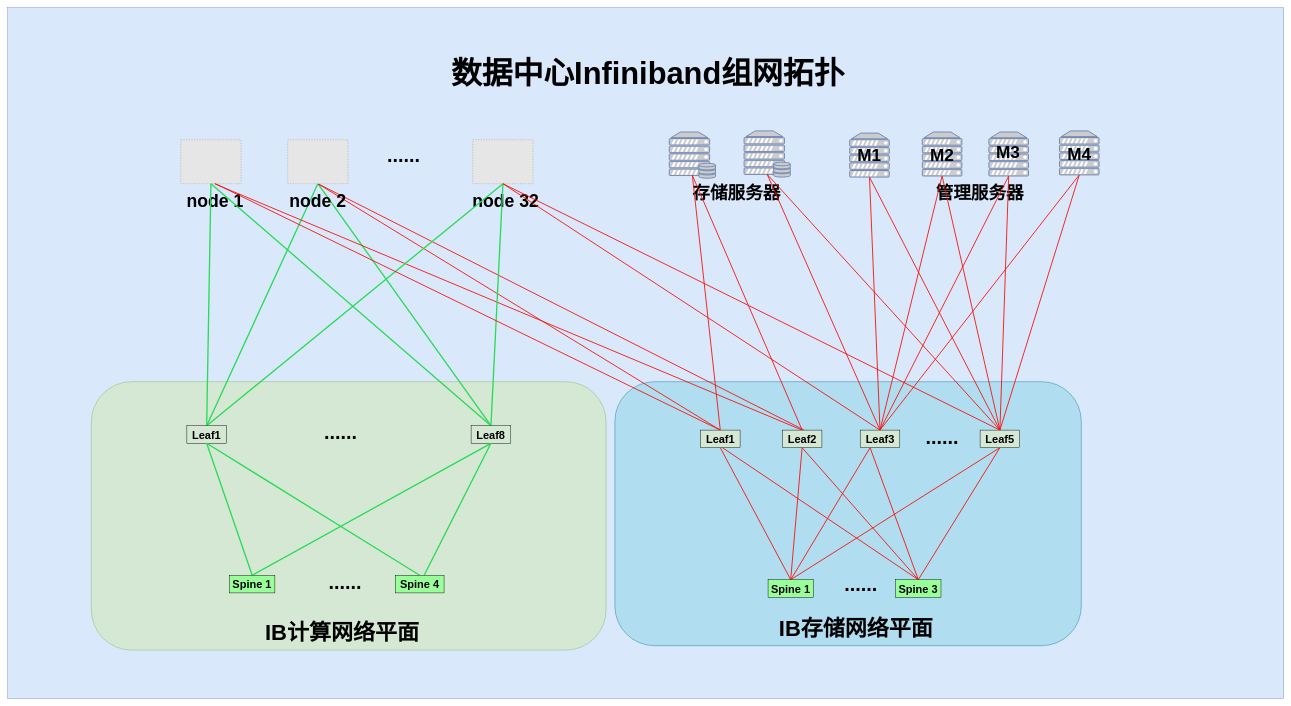
Image size: 1291x706. Some labels were removed from this diagram. Grey dashed boxes stand in for pictures. Here are the shapes that lost their labels. From the top down, the centre of each, then its label:
At (x=692, y=154): "S1".
At (x=767, y=153): "S2".
